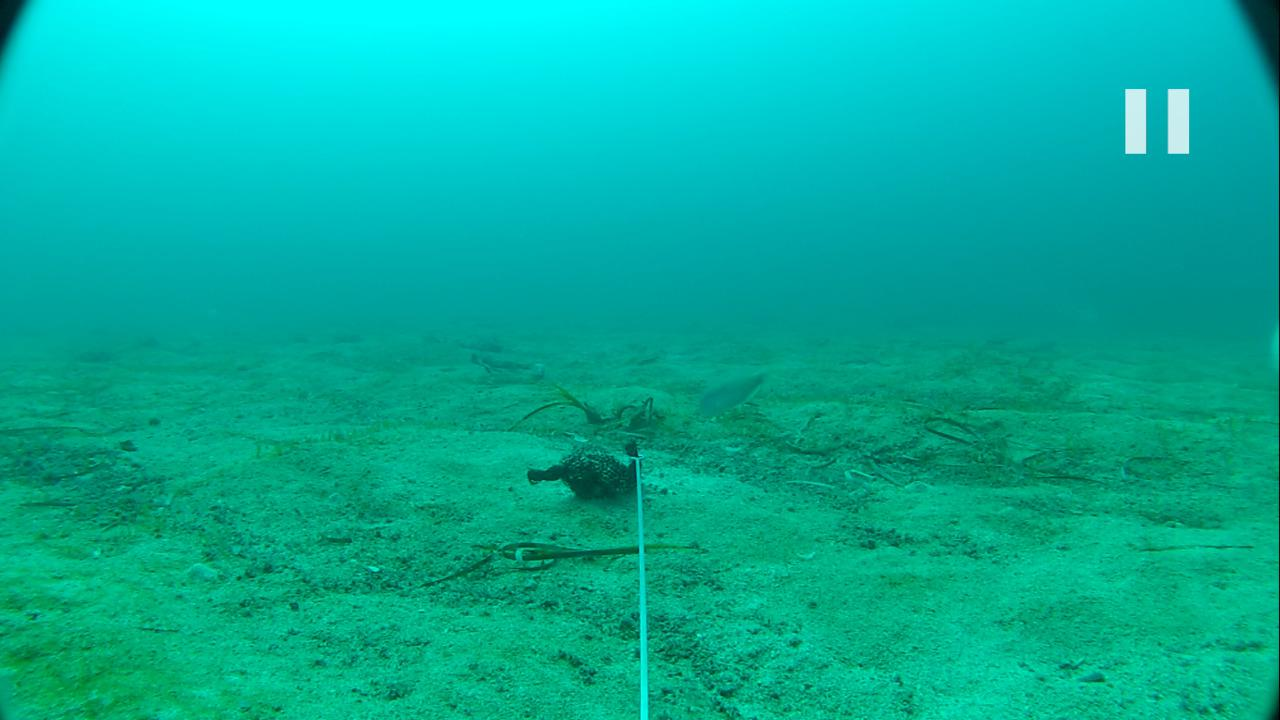dactylopterus: (458, 348, 553, 389)
raor: (692, 370, 765, 423)
